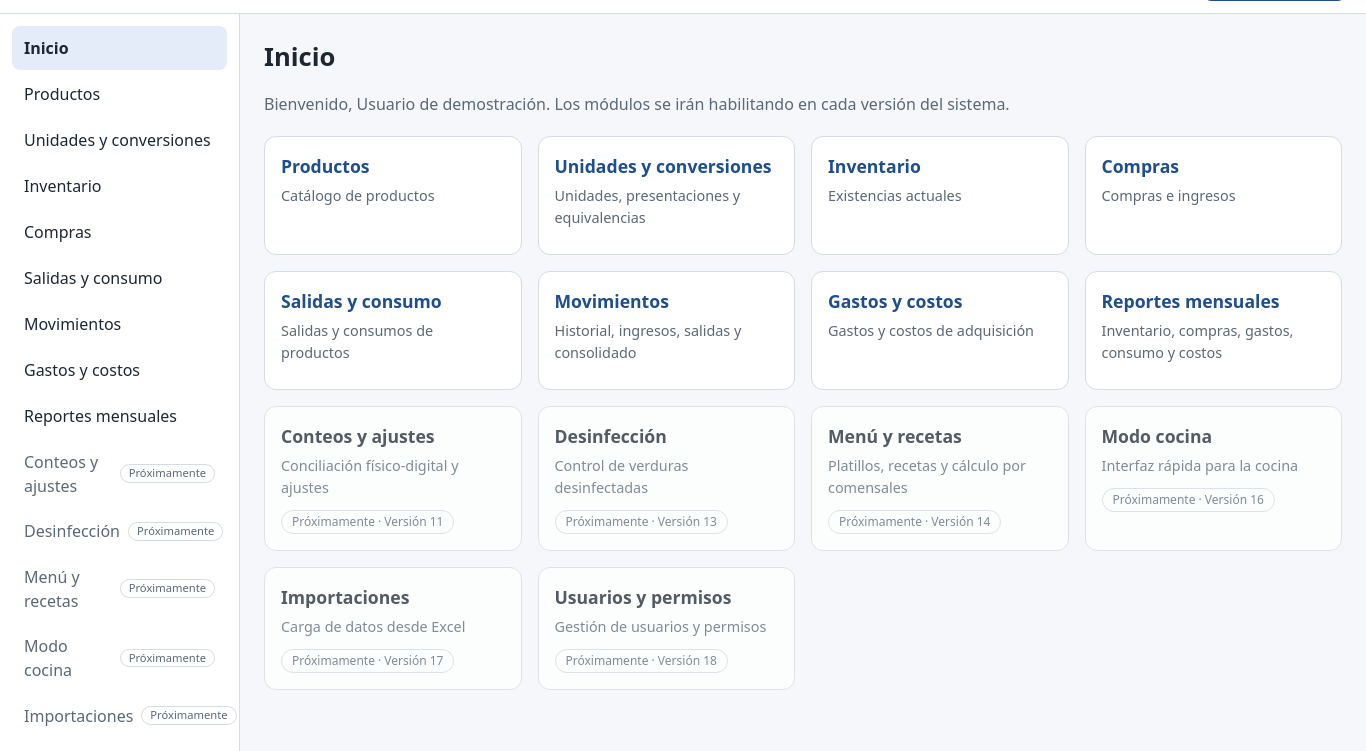
Test case: gastos: acceso y navegación › desde el menú se llega a Gastos y costos, y desde ahí a Gastos, y el menú sigue activo
(page scrolled)
Check: the heading "Inicio" is shown, box [264,39,335,74]
Click the link "Gastos y costos": (82, 370) [24,359,140,381]
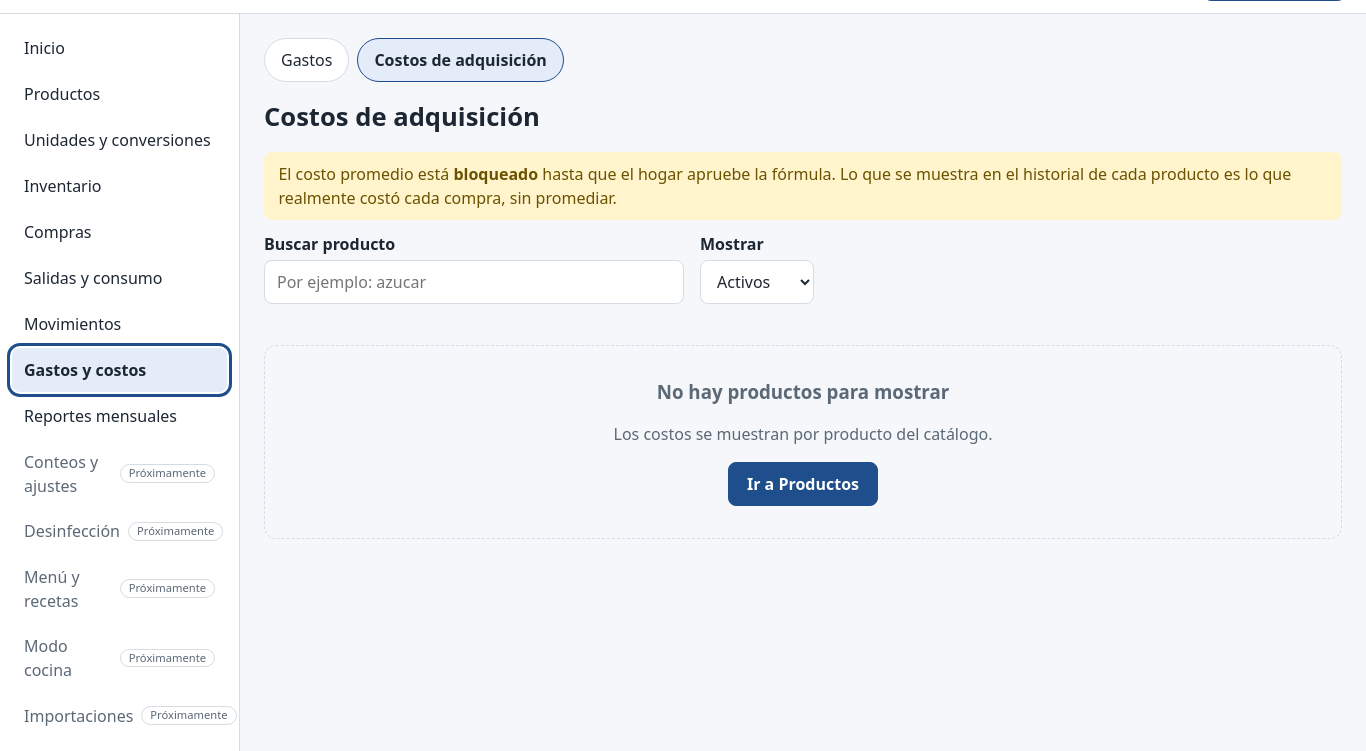
Check: the heading "Costos de adquisición" is shown, box [264,98,540,136]
Click the link "Gastos": (307, 60) [264,38,349,82]
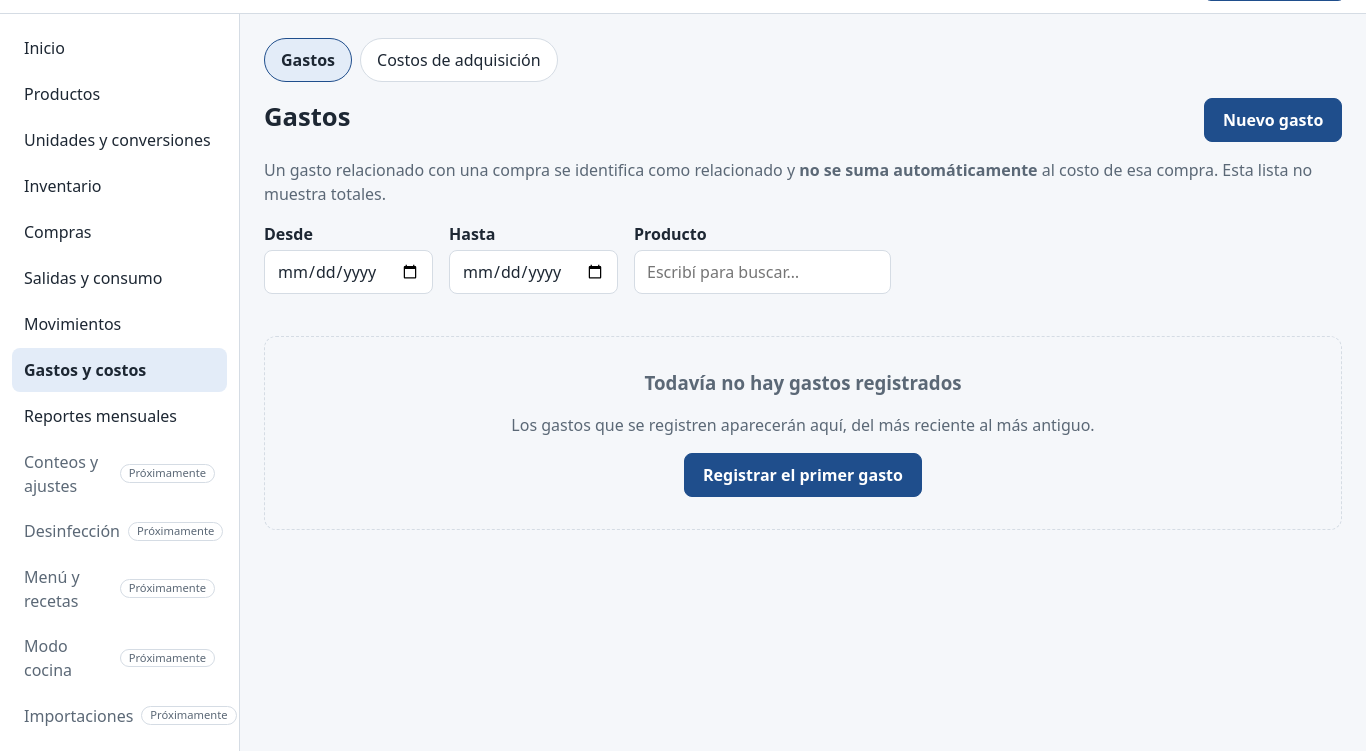
Check: the heading "Gastos" is shown, box [264,98,350,136]
